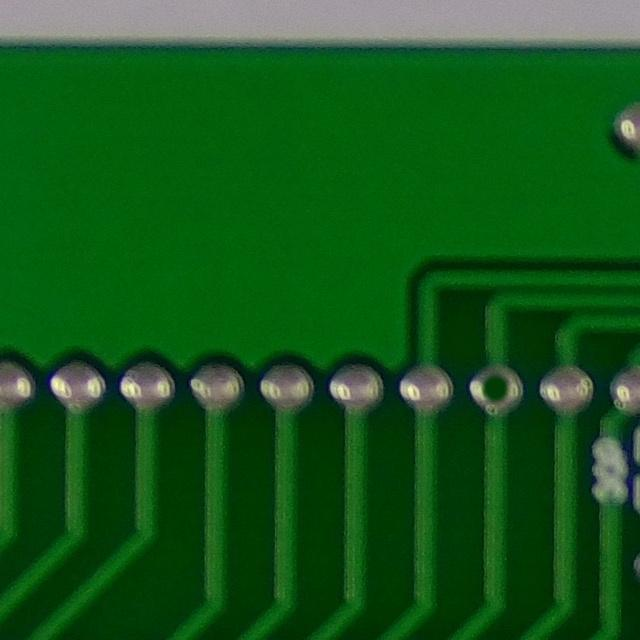missing_hole: (463, 358, 532, 422)
